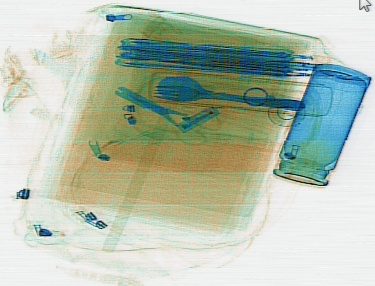scissors: (113, 84, 221, 144)
